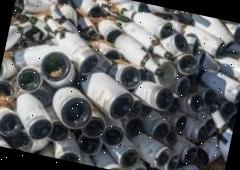glass: (70, 62, 138, 122), (105, 27, 174, 80), (2, 82, 61, 142), (46, 83, 99, 132), (34, 46, 84, 94), (131, 73, 177, 115), (103, 57, 145, 94), (70, 124, 108, 161), (168, 46, 204, 82), (13, 0, 61, 27), (154, 28, 191, 63), (98, 112, 130, 150), (76, 108, 110, 140), (0, 103, 26, 141)
